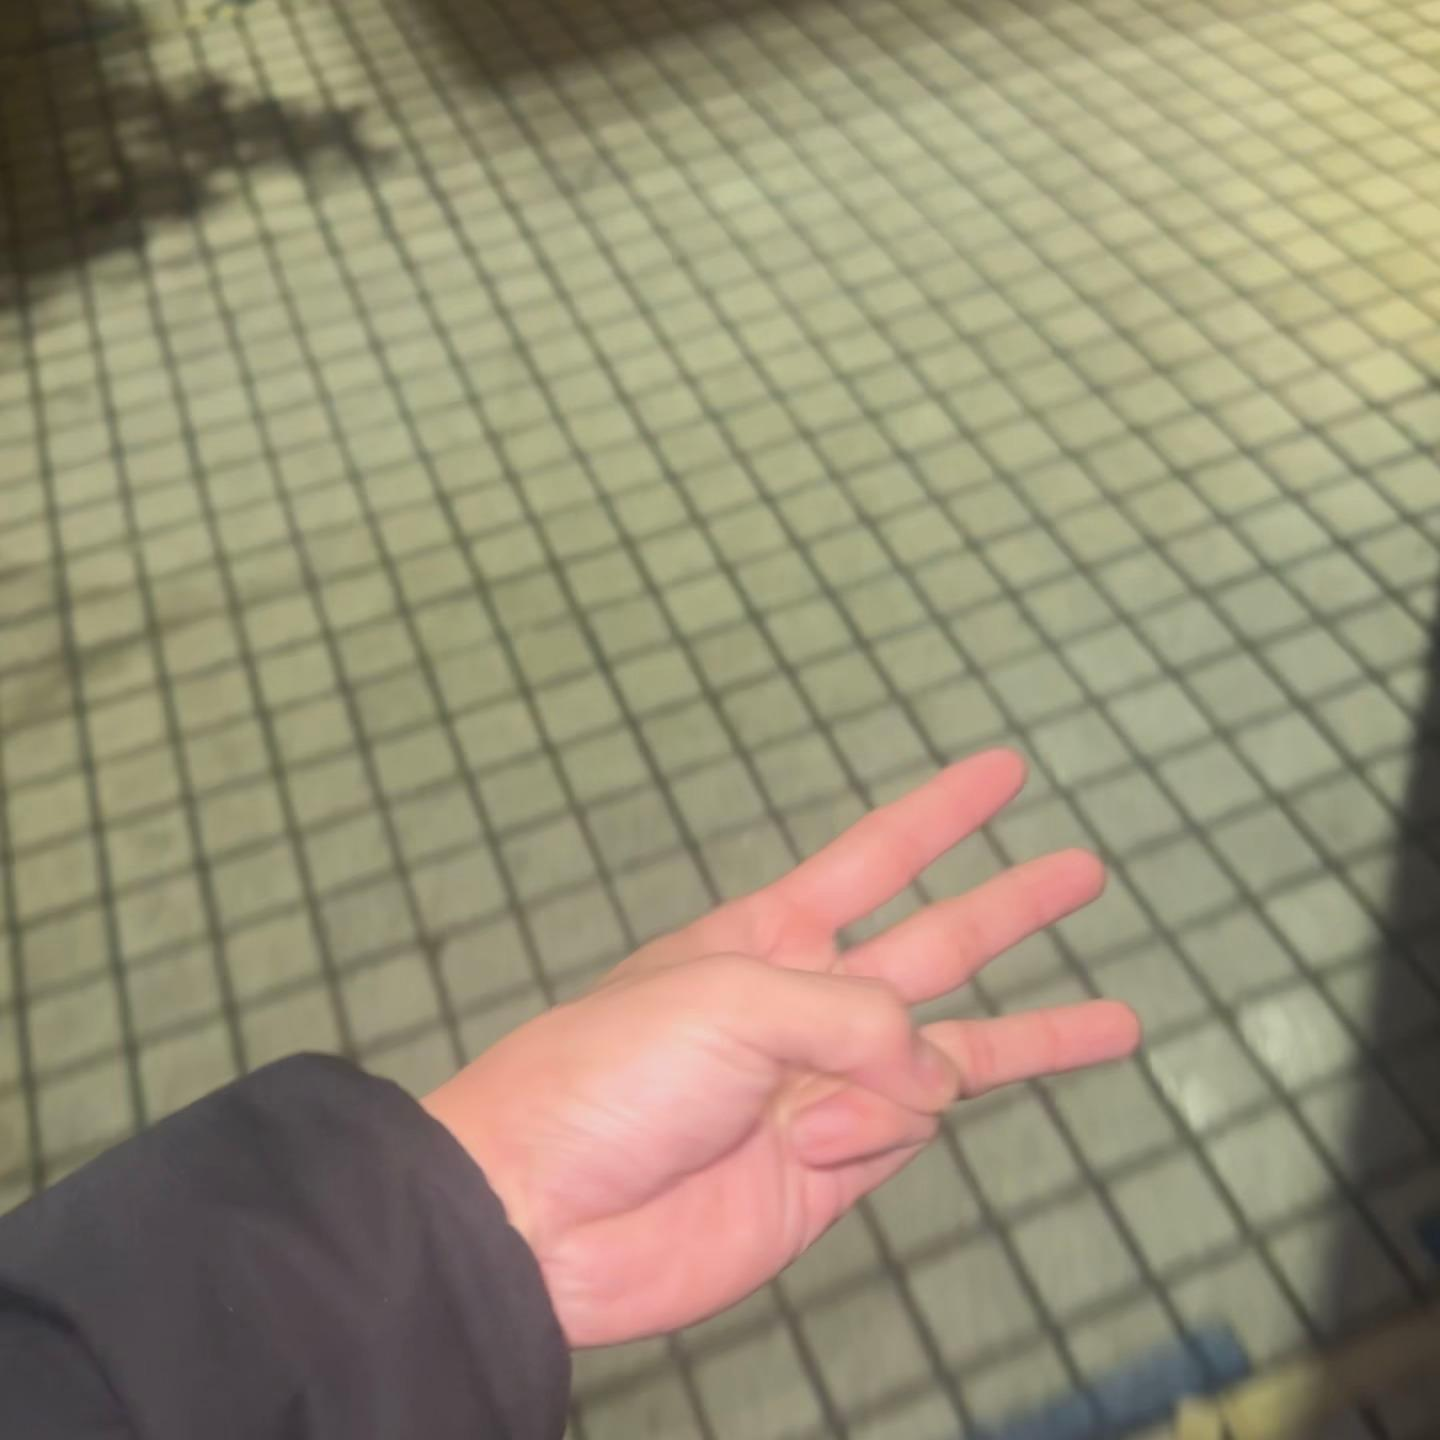without_gloves: (404, 549, 1141, 1436)
